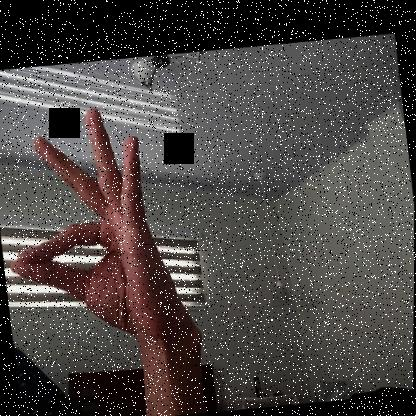F: (0, 95, 203, 355)
